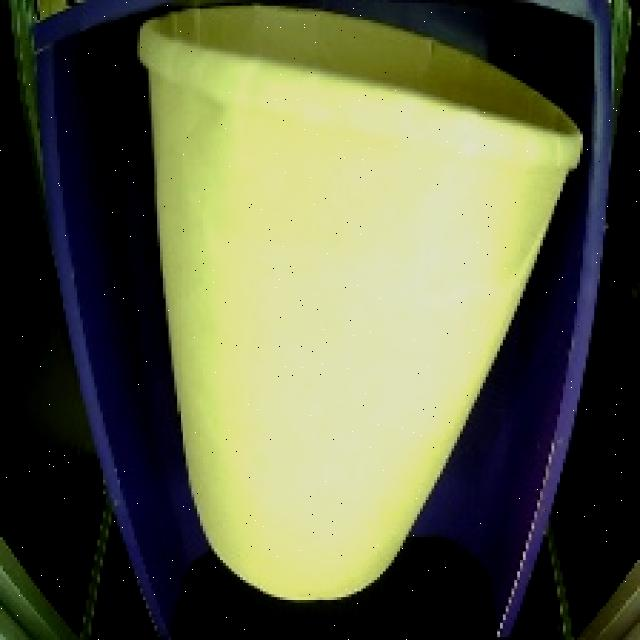cups: (130, 0, 600, 615)
